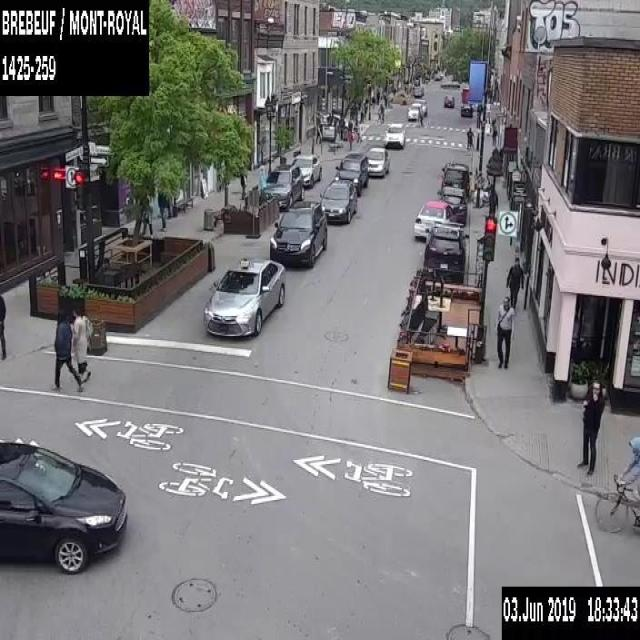cyclist: (594, 435, 639, 532), (376, 102, 384, 122)
pedestrian: (578, 379, 606, 477), (51, 305, 79, 391), (70, 305, 93, 381), (494, 297, 514, 368), (507, 256, 524, 314), (156, 190, 169, 234), (141, 194, 154, 234), (0, 294, 6, 360), (464, 124, 472, 149), (240, 172, 247, 200), (416, 103, 424, 126), (346, 128, 354, 148), (491, 125, 497, 146)
vehicle: (0, 438, 129, 574), (204, 257, 285, 336), (268, 202, 326, 270), (260, 163, 302, 215), (424, 225, 471, 271), (412, 200, 457, 240), (320, 179, 354, 223), (334, 152, 368, 196), (440, 160, 470, 197), (289, 152, 321, 185), (440, 185, 467, 222), (362, 145, 388, 177), (382, 121, 406, 148), (460, 100, 473, 119), (407, 103, 420, 119), (440, 79, 460, 88), (443, 94, 454, 107)
